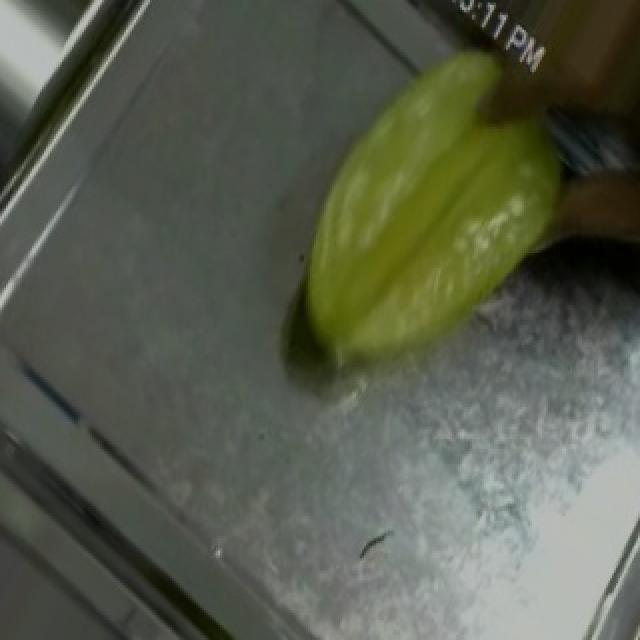fruit: (244, 5, 618, 394)
